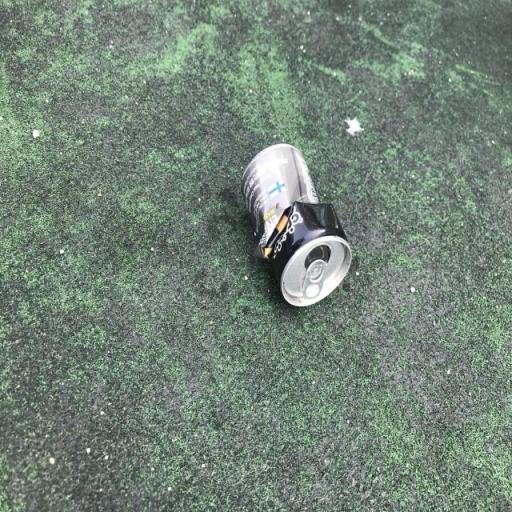metal: (229, 112, 362, 330)
